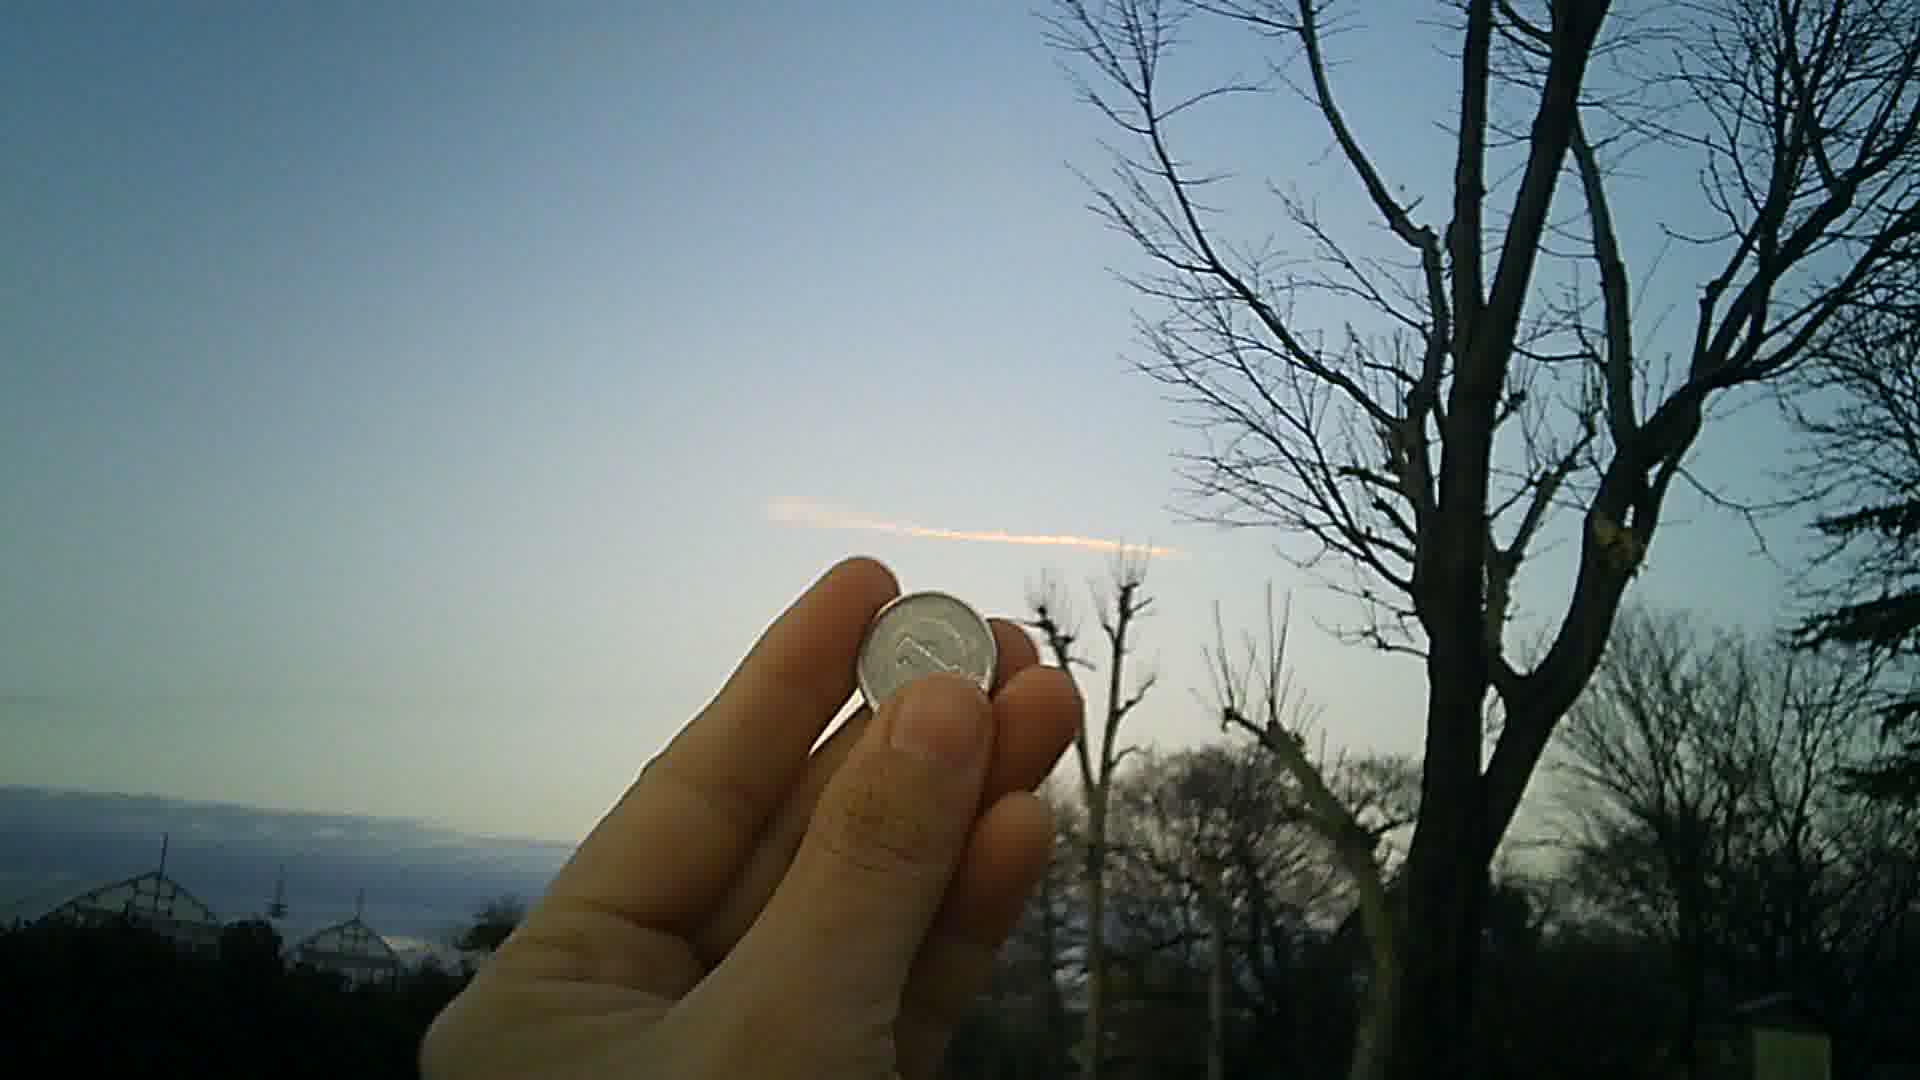1 Yen: (857, 589, 1002, 733)
